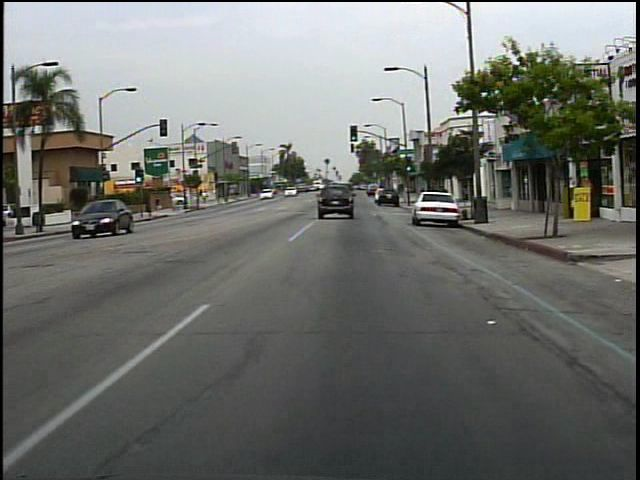person: (149, 190, 168, 219), (201, 188, 210, 207)
